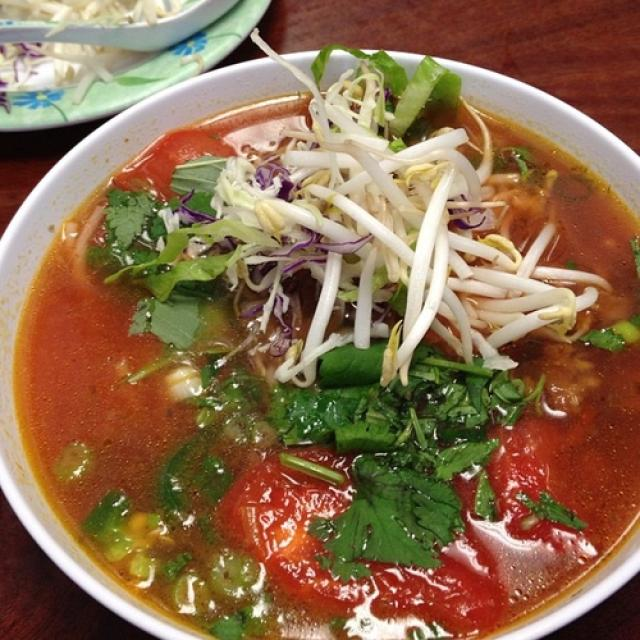面条主食: (11, 47, 635, 621)
